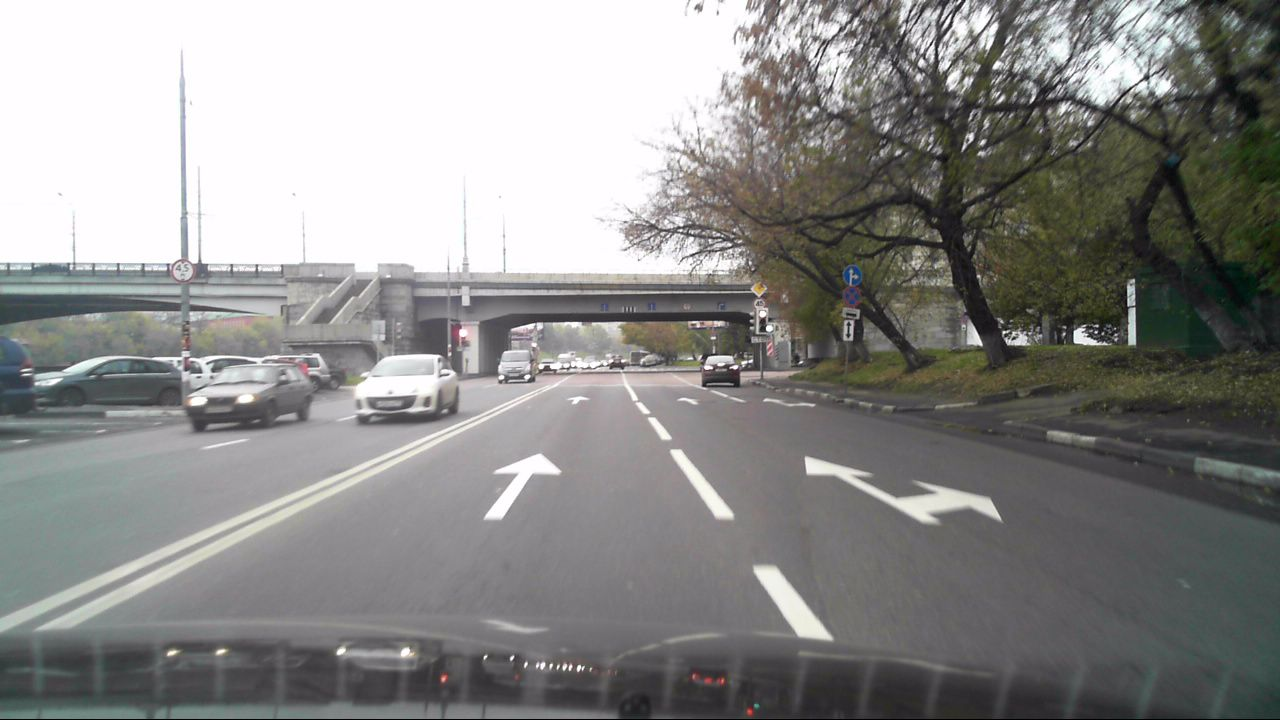No Parking: (843, 286, 864, 307)
